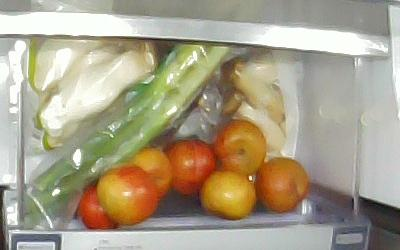prune: (95, 163, 159, 225), (253, 155, 309, 213), (197, 167, 256, 220), (211, 118, 266, 174), (162, 137, 216, 194), (126, 145, 173, 198), (78, 177, 119, 229)
